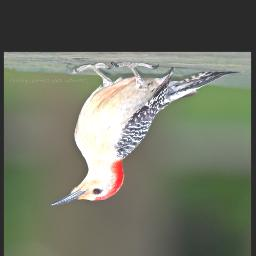Woodpecker: (47, 61, 240, 209)
